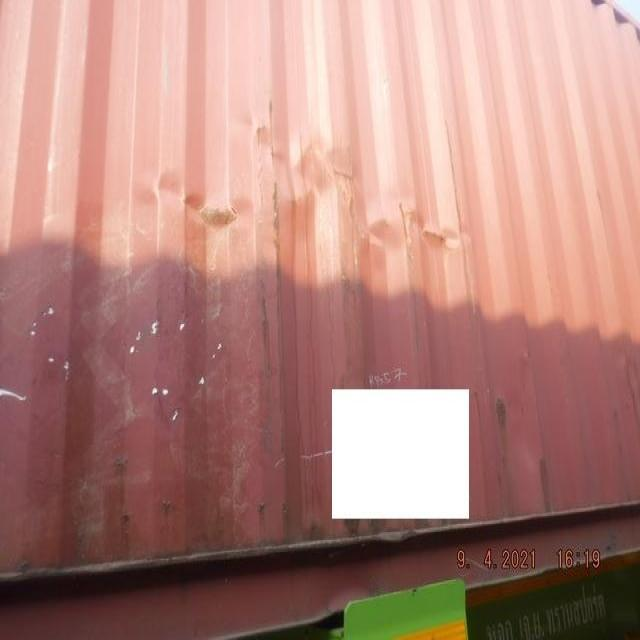dent: (127, 108, 475, 282)
